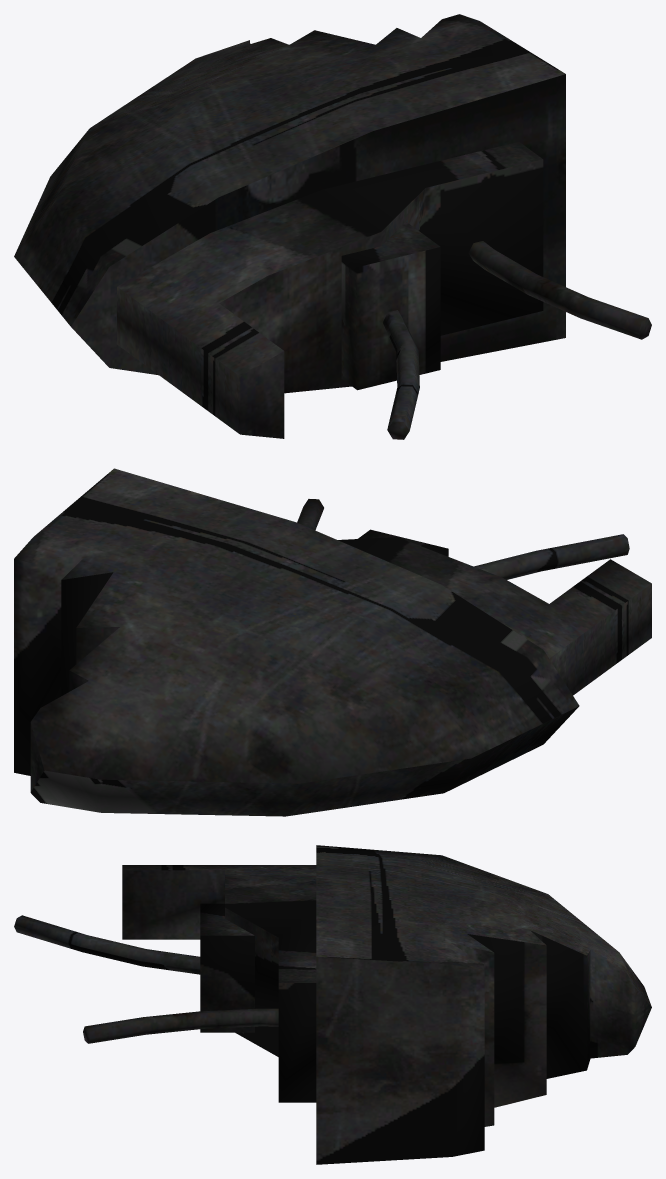
Rendered from spacejunk13.fbx.
3 views of the same model, one above another, from view 1: azimuth 30°, elevation 25°; view 2: azimuth 150°, elevation 25°; view 3: azimuth 270°, elevation 25° (orthographic). The views are drawn at different scales.
Visible parts, largest first — view 1: PipelineFBX0, PipelineFBX1; view 2: PipelineFBX1, PipelineFBX0; view 3: PipelineFBX0, PipelineFBX1.
Part boxes in pixels (x1,y1,x2,y2): PipelineFBX0: (71,40,651,439); PipelineFBX1: (14,14,565,326); PipelineFBX1: (14,468,579,783); PipelineFBX0: (14,499,651,816); PipelineFBX0: (14,865,651,1164); PipelineFBX1: (316,845,651,1006).
Size of the model in its own units: 75.74 by 38.56 by 107.
1 material, 1 textured.
